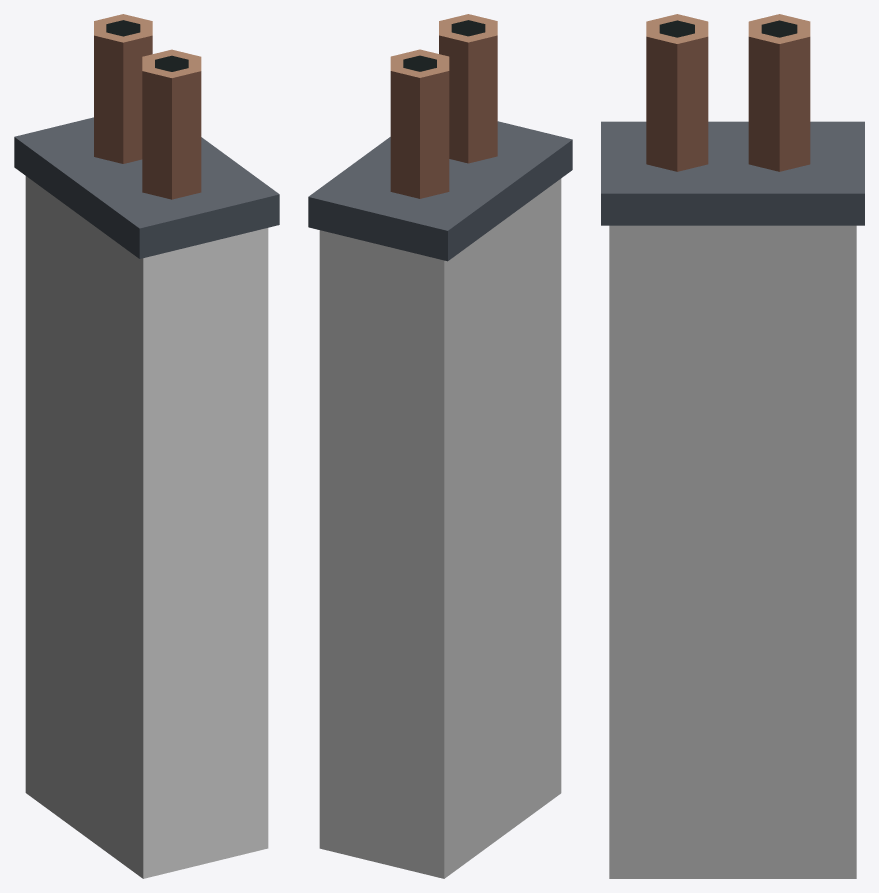
Rendered from TB_CITY_BD_Chimney_A.FBX.
3 views of the same model, side by side, from view 1: azimuth 30°, elevation 25°; view 2: azimuth 150°, elevation 25°; view 3: azimuth 270°, elevation 25° (orthographic). The views are drawn at different scales.
Visible parts, largest first — view 1: TB_CITY_BD_Chimney_A; view 2: TB_CITY_BD_Chimney_A; view 3: TB_CITY_BD_Chimney_A.
Part boxes in pixels (<box>): TB_CITY_BD_Chimney_A: <box>14,14,279,878</box>; TB_CITY_BD_Chimney_A: <box>308,14,572,878</box>; TB_CITY_BD_Chimney_A: <box>601,14,864,878</box>.
Bounding box in the file's own units: 1.46 × 7.75 × 2.27.
